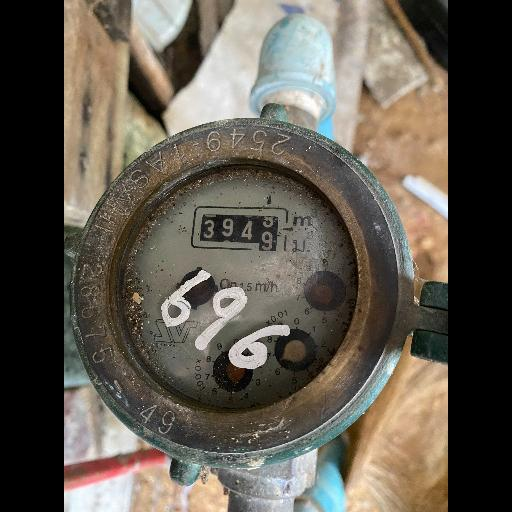3: (201, 215, 220, 242)
4: (237, 215, 260, 243)
8: (258, 216, 278, 251)
9: (219, 214, 238, 242)
border_water_meter_number: (191, 205, 288, 252)
